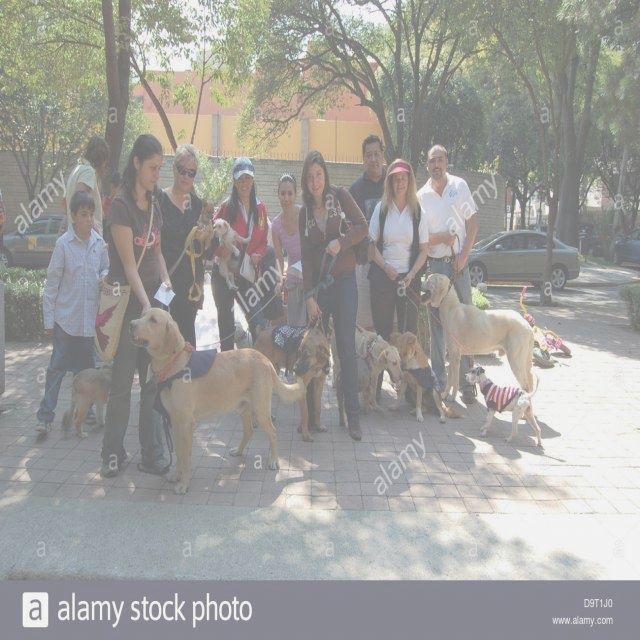pessoa: (98, 131, 178, 477), (294, 148, 373, 444), (33, 188, 110, 434), (416, 144, 479, 405), (366, 158, 430, 406), (348, 134, 420, 336), (158, 142, 218, 351), (210, 156, 270, 355), (270, 172, 308, 386), (59, 134, 112, 243), (604, 198, 640, 312), (258, 214, 282, 326), (88, 169, 126, 231), (197, 255, 217, 291), (0, 187, 7, 249), (211, 195, 219, 215), (538, 217, 550, 226)
